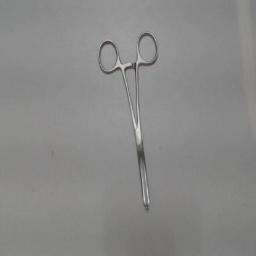Allis Tissue Forceps: (94, 25, 160, 217)
